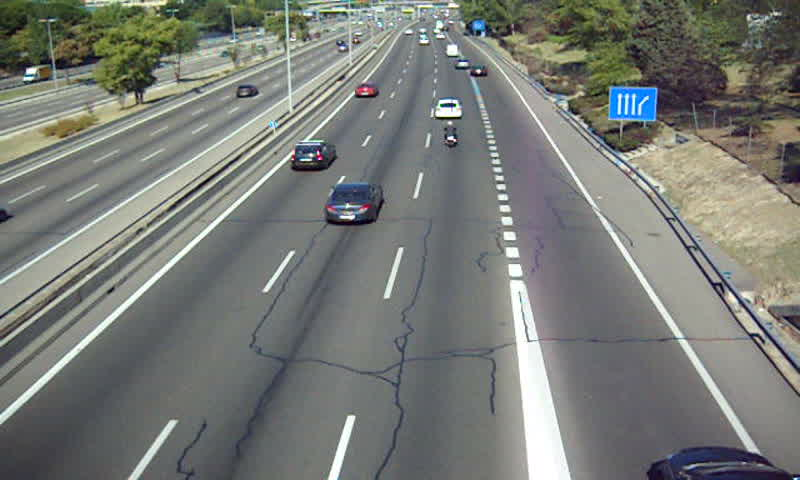car: (323, 183, 383, 224), (290, 140, 336, 172), (434, 98, 463, 121), (353, 84, 378, 99), (469, 66, 487, 76), (457, 57, 471, 69)
motorcycle: (442, 122, 460, 150)
